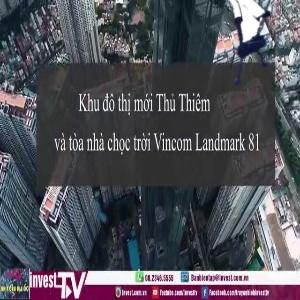drone: (199, 1, 295, 97)
